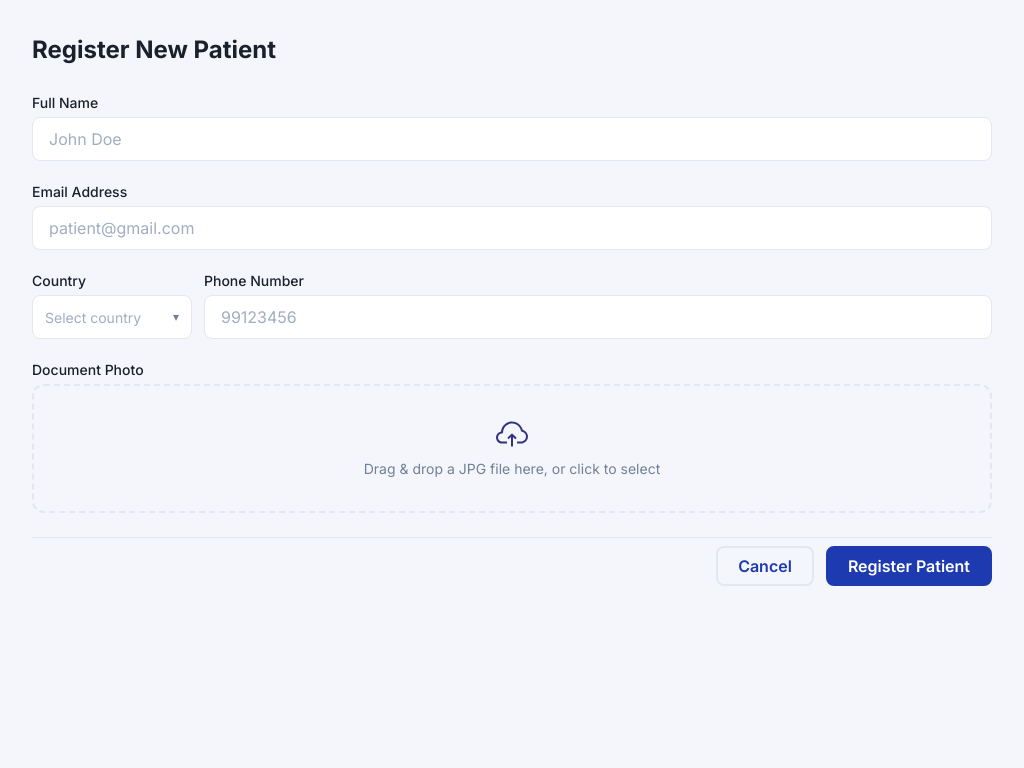
Test: PatientForm › shows format error for full name with digits
Type "John123" into the field labelled "Full Name" at (512, 139), box [32,117,992,161]
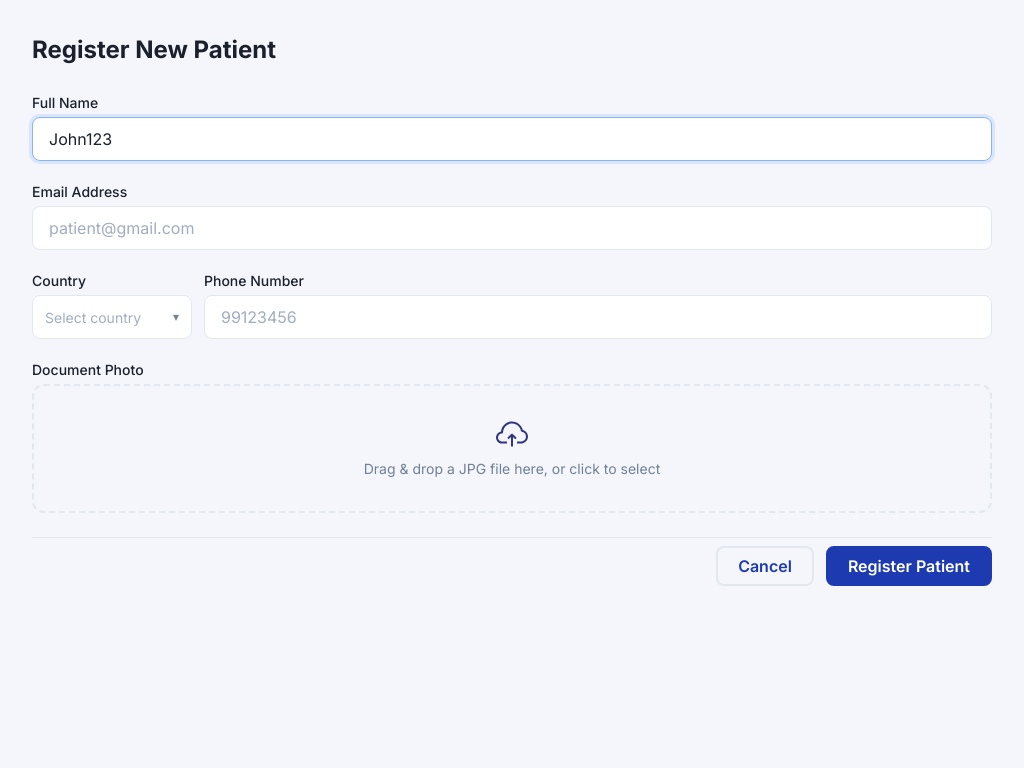
Click the button "Register Patient" at (909, 566), box [826,546,992,586]
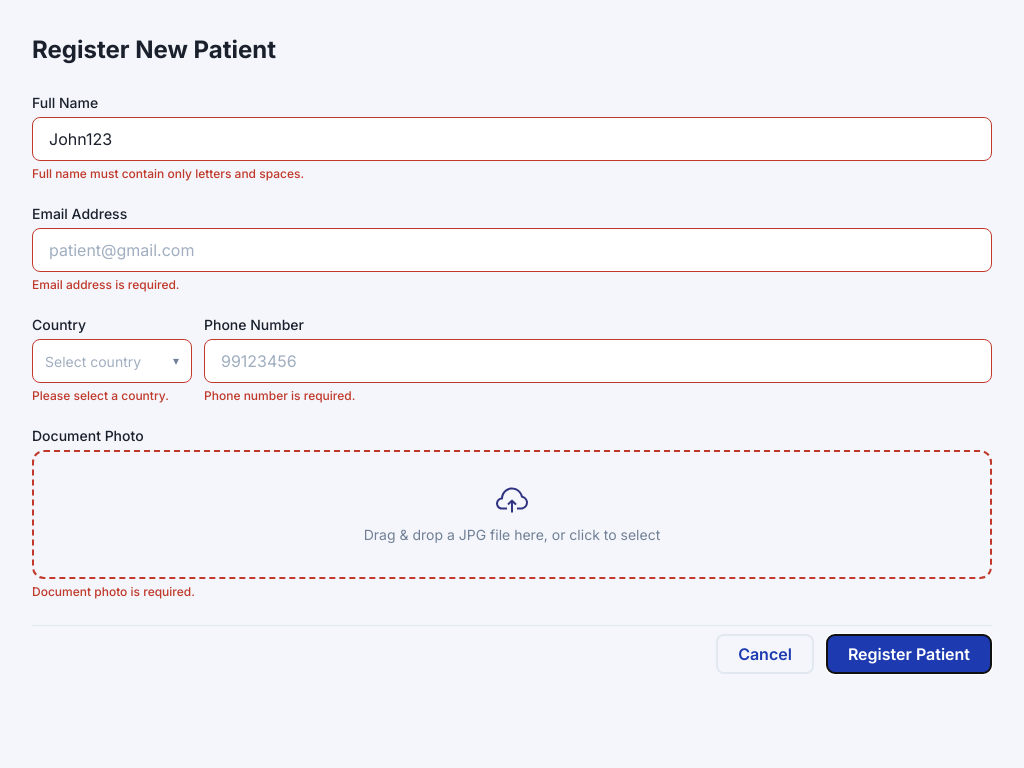
Result: the text "Full name must contain only letters and spaces." is shown at [32,166,304,181]
